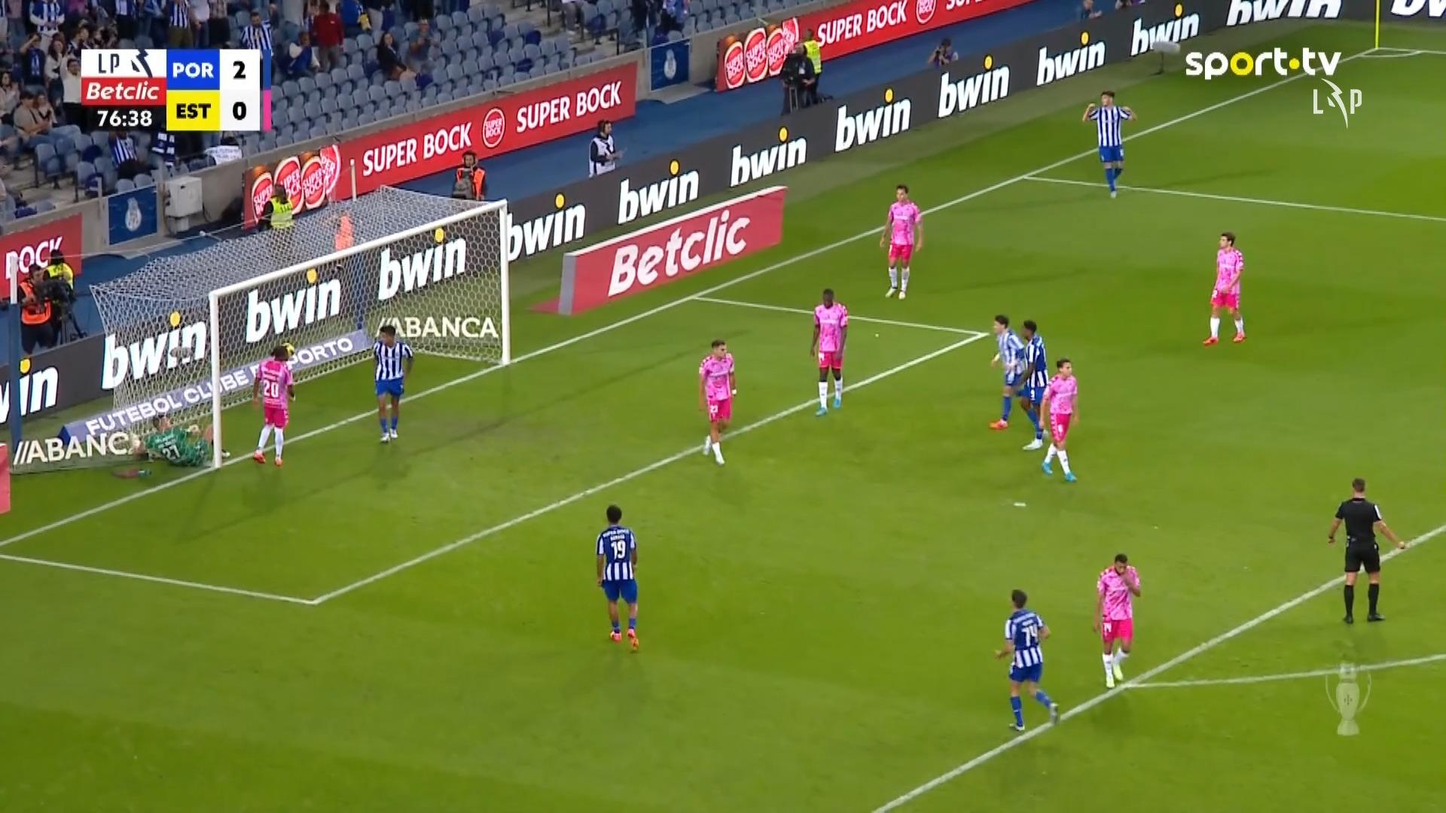goalkeeper: (127, 412, 228, 467)
player: (993, 588, 1060, 730), (594, 504, 640, 652), (1092, 553, 1141, 688), (1081, 90, 1136, 198), (250, 342, 296, 466), (877, 183, 923, 299), (809, 288, 849, 416), (1202, 230, 1246, 345), (697, 339, 737, 464), (1039, 357, 1079, 481), (372, 324, 413, 443), (1014, 318, 1048, 450), (988, 313, 1026, 428)
referee: (1326, 477, 1405, 623)
